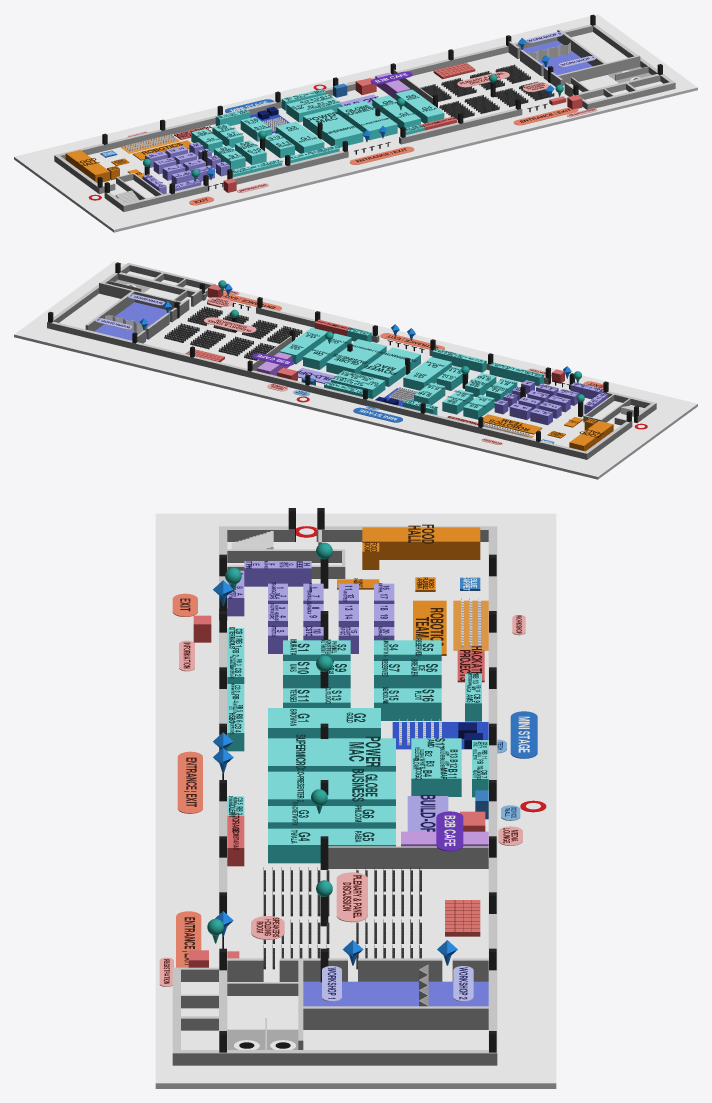
Rendered from iotcon2026-floorplan_4.glb.
3 renders of one model, top to bottom at view 1: azimuth 30°, elevation 25°; view 2: azimuth 150°, elevation 25°; view 3: azimuth 270°, elevation 25°, orthographic. The views are drawn at different scales.
Visible parts, largest first — view 1: site-slab, wall-back, text-0E3B3C, booths, columns, wall-front-3, wall-front-2, wall-workshop-bottom, C1, C2, food-hall, wall-front-1 (+23 smaller); view 2: site-slab, wall-back, booths, text-0E3B3C, columns, P2, workshop-1, P1, food-hall, wall-workshop-bottom, wall-front-4, wall-right (+28 smaller); view 3: site-slab, text-0E3B3C, columns, wall-right, booths, wall-workshop-ahu, wall-back, wall-partition, food-hall, workshop-1, C1, G4 (+35 smaller).
Boxes of the visible parts, left/top/right/bottom form: site-slab: left=14, top=14, right=697, bottom=232; wall-back: left=54, top=24, right=595, bottom=162; text-0E3B3C: left=195, top=89, right=436, bottom=173; booths: left=145, top=142, right=229, bottom=184; columns: left=97, top=14, right=662, bottom=197; wall-front-3: left=399, top=108, right=522, bottom=144; wall-front-2: left=232, top=150, right=348, bottom=184; wall-workshop-bottom: left=557, top=55, right=640, bottom=85; C1: left=321, top=120, right=363, bottom=147; C2: left=352, top=112, right=397, bottom=140; food-hall: left=65, top=150, right=109, bottom=182; wall-front-1: left=121, top=184, right=207, bottom=211; site-slab: left=14, top=261, right=697, bottom=479; wall-back: left=47, top=321, right=589, bottom=459; booths: left=494, top=380, right=579, bottom=425; text-0E3B3C: left=289, top=327, right=543, bottom=408; columns: left=48, top=262, right=638, bottom=441; P2: left=326, top=351, right=370, bottom=374; workshop-1: left=114, top=302, right=169, bottom=331; P1: left=360, top=359, right=404, bottom=386; food-hall: left=569, top=421, right=613, bottom=451; wall-workshop-bottom: left=99, top=282, right=181, bottom=310; wall-front-4: left=114, top=272, right=206, bottom=300; wall-right: left=47, top=263, right=131, bottom=328; site-slab: left=155, top=513, right=556, bottom=1088; text-0E3B3C: left=229, top=627, right=487, bottom=843; columns: left=219, top=508, right=496, bottom=1052; wall-right: left=172, top=1050, right=496, bottom=1065; booths: left=268, top=583, right=394, bottom=653; wall-workshop-ahu: left=298, top=1006, right=488, bottom=1029; wall-back: left=488, top=526, right=497, bottom=1065; wall-partition: left=328, top=846, right=488, bottom=868; food-hall: left=362, top=527, right=480, bottom=559; workshop-1: left=303, top=981, right=418, bottom=1006; C1: left=268, top=738, right=333, bottom=771; G4: left=268, top=828, right=333, bottom=863.
Size of the model in its own units: 160 by 6.55 by 47.5.
